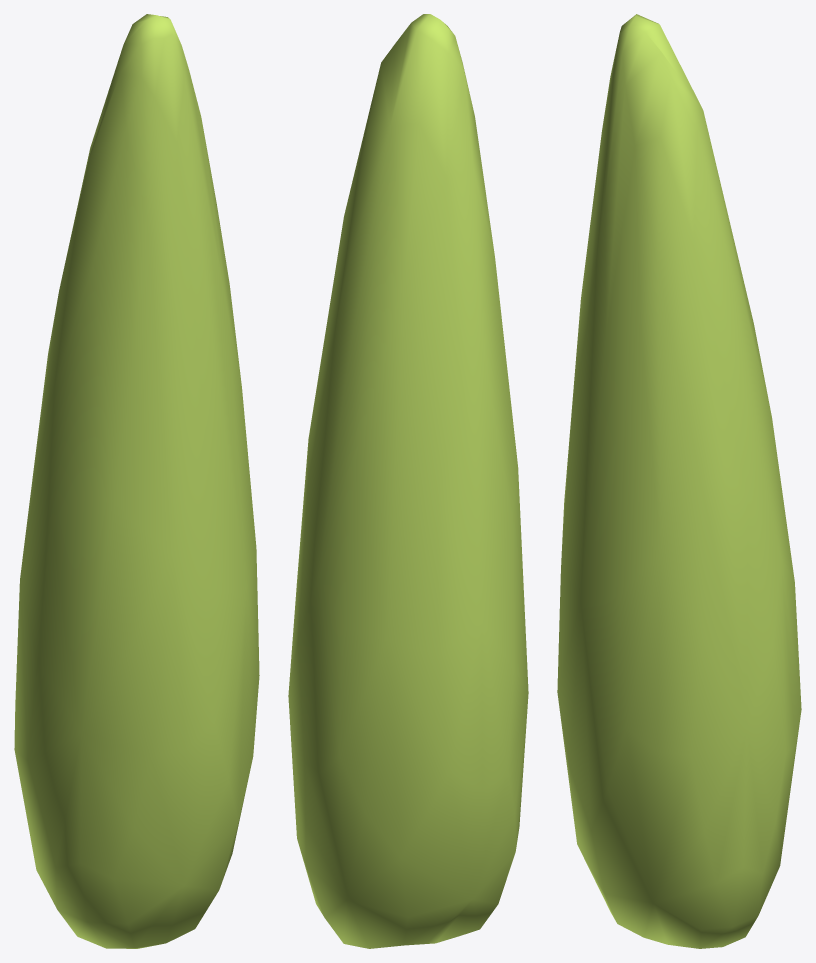
The model's file is BushTree_F.fbx.
3 renders of one model, left to right at view 1: azimuth 30°, elevation 25°; view 2: azimuth 150°, elevation 25°; view 3: azimuth 270°, elevation 25°, orthographic. The views are drawn at different scales.
Visible parts, largest first — view 1: Thuja_BushTree_m_03; view 2: Thuja_BushTree_m_03; view 3: Thuja_BushTree_m_03.
Part boxes in pixels (x1,y1,x2,y2): Thuja_BushTree_m_03: [14, 14, 259, 948]; Thuja_BushTree_m_03: [288, 14, 528, 948]; Thuja_BushTree_m_03: [557, 14, 801, 948].
Bounding box in the file's own units: 91.11 × 386 × 93.12.
